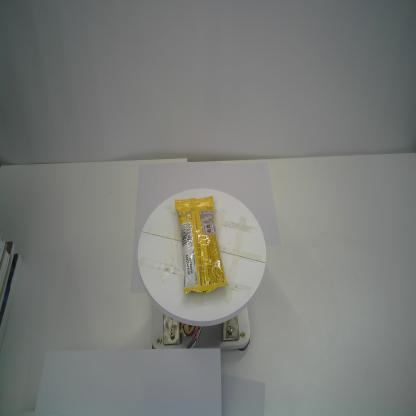Chocolate: (173, 195, 229, 296)
